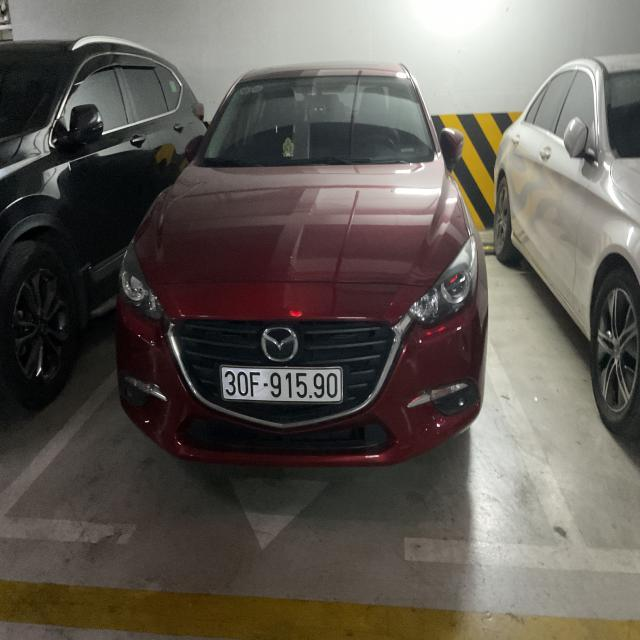license: (218, 364, 343, 403)
